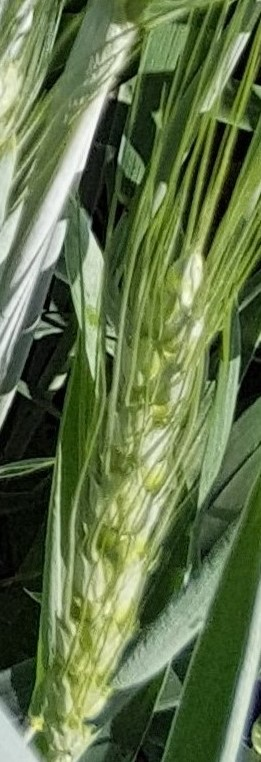Healthy Wheat: (49, 254, 216, 728)
